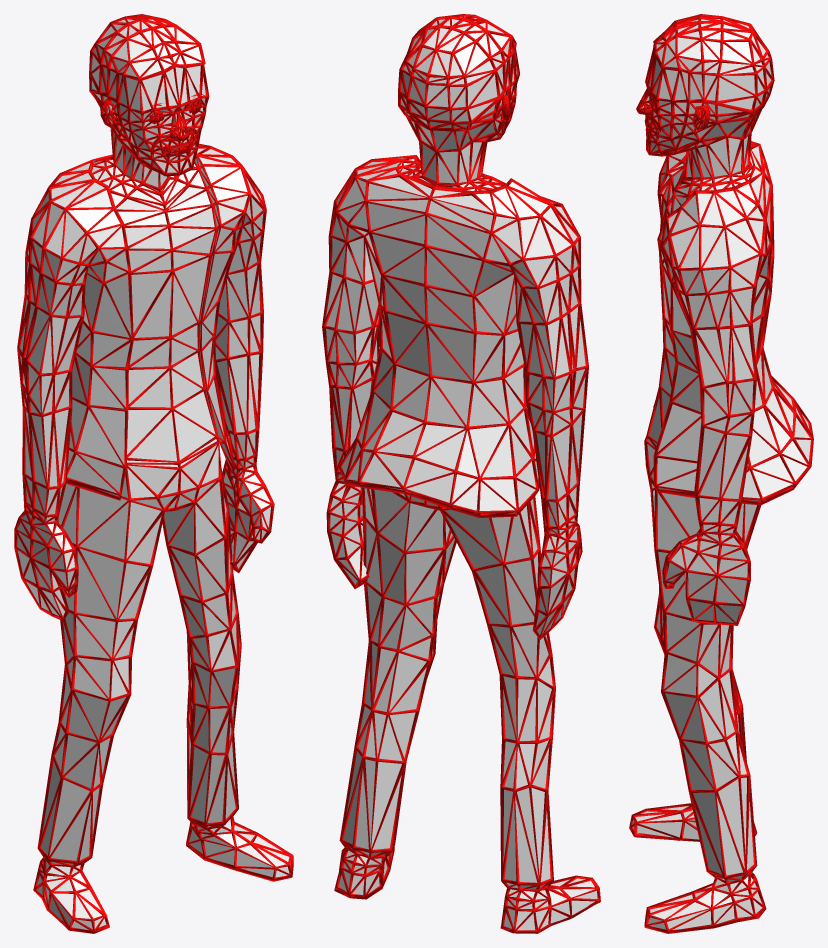
The model's file is elegantIdle_000018.obj.
3 renders of one model, left to right at view 1: azimuth 30°, elevation 25°; view 2: azimuth 150°, elevation 25°; view 3: azimuth 270°, elevation 25°, orthographic. The views are drawn at different scales.
Parts seen in each view (by area): view 1: BaseHuman_Cylinder.002; view 2: BaseHuman_Cylinder.002; view 3: BaseHuman_Cylinder.002.
Part boxes in pixels (bbox=[...]): BaseHuman_Cylinder.002: bbox=[14, 14, 293, 933]; BaseHuman_Cylinder.002: bbox=[322, 14, 600, 933]; BaseHuman_Cylinder.002: bbox=[629, 14, 813, 933].
Size of the model in its own units: 1.44 by 4.84 by 0.9494.
